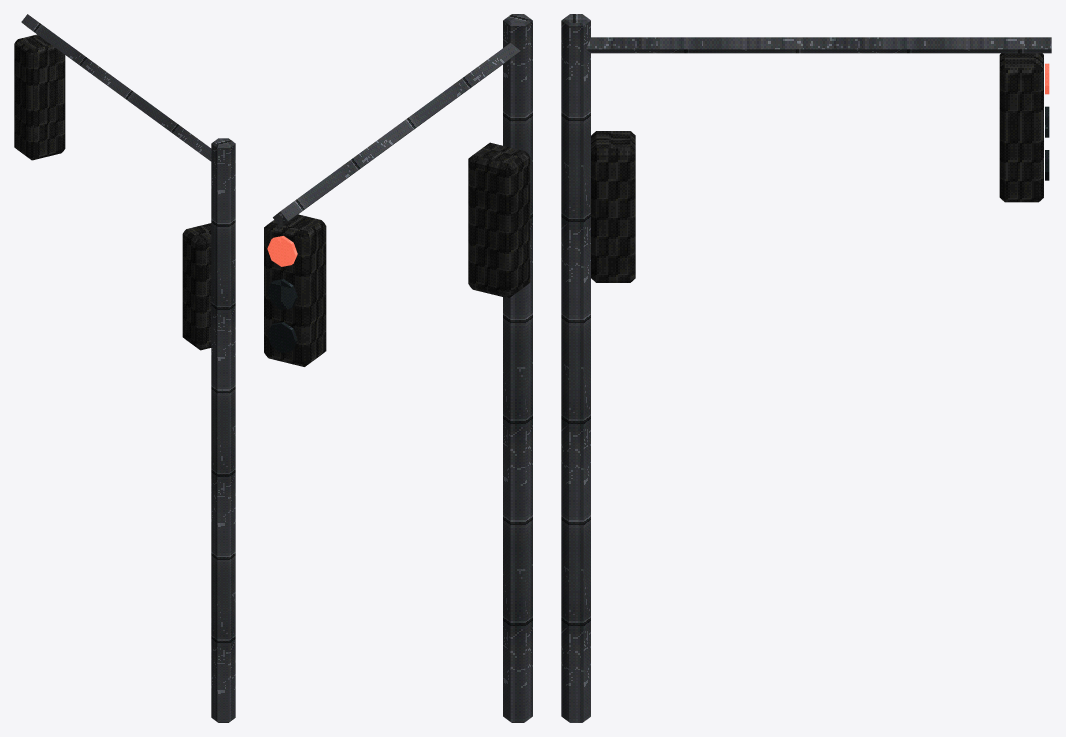
The model's file is ext_traffic_light.glb.
The picture shows the model from 3 angles, left to right: view 1: azimuth 30°, elevation 25°; view 2: azimuth 150°, elevation 25°; view 3: azimuth 270°, elevation 25°; orthographic projection. The views are drawn at different scales.
Visible parts, largest first — view 1: ext_traffic_light_mesh; view 2: ext_traffic_light_mesh; view 3: ext_traffic_light_mesh.
Boxes of the visible parts, x1,y1,x2,y2 form: ext_traffic_light_mesh: (14, 14, 235, 722); ext_traffic_light_mesh: (264, 14, 532, 722); ext_traffic_light_mesh: (561, 14, 1051, 722).
Size of what is drawn, in the model's own units: 0.35 by 5.2 by 3.3.
Materials: 4 (4 with a texture image).
